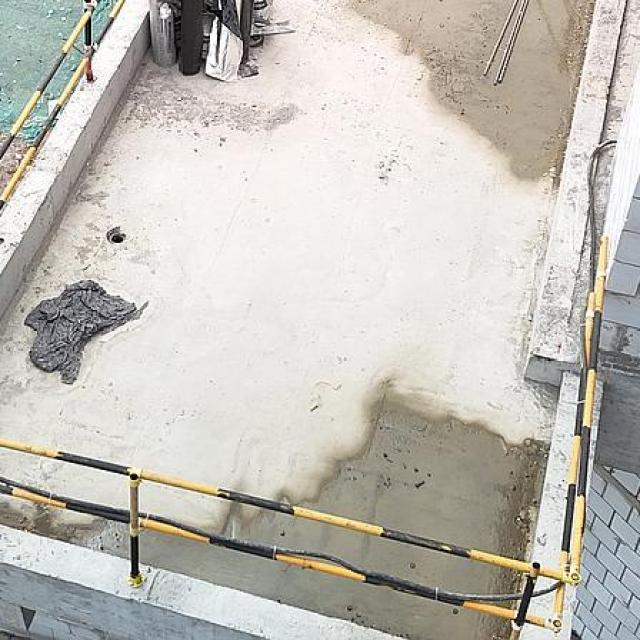edge_guardrail: (1, 234, 610, 639), (0, 0, 127, 210)
